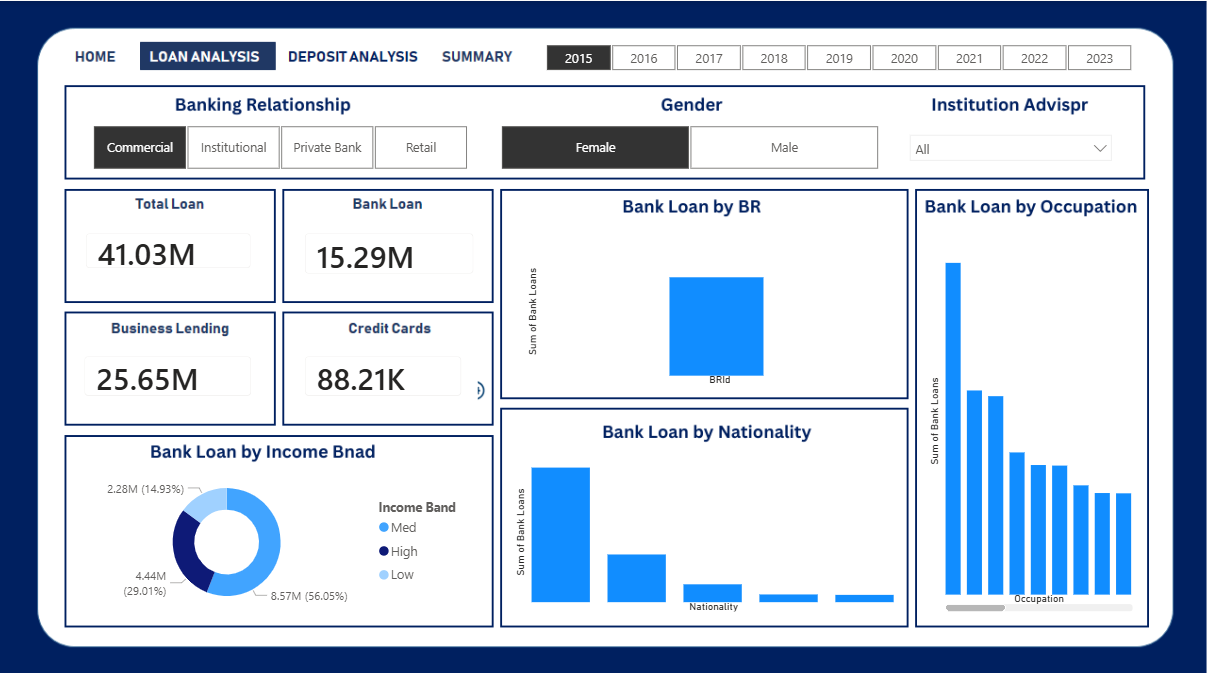

The page's visual inventory and layout, read from the dashboard file:
{"tool":"powerbi","page":{"name":"Loan Analysis","canvas":[1280,720],"ordinal":1},"visuals":[{"type":"cardVisual","fields":{"Data":["Sum(Banking (1).Bank Loans)"]},"box":[307,229,213.1,77.9],"z":0},{"type":"cardVisual","fields":{"Data":["Banking (1).Total Loan"]},"box":[74.8,229,210,71.6],"z":1000},{"type":"cardVisual","fields":{"Data":["Sum(Banking (1).Credit Card Balance)"]},"box":[307,359.5,200.4,76.3],"z":2000},{"type":"cardVisual","fields":{"Data":["Sum(Banking (1).Business Lending)"]},"box":[73.2,359.5,211.6,76.3],"z":3000},{"type":"actionButton","box":[60.4,39.8,89.1,36.6],"z":4000},{"type":"actionButton","box":[295.9,39.8,162.2,36.6],"z":5000},{"type":"actionButton","box":[458.1,38.2,97,38.2],"z":6000},{"type":"slicer","fields":{"Values":["Banking (1).Joined Bank.Variation.Date Hierarchy.Year"]},"box":[555.1,39.8,669.6,36.6],"z":7000},{"type":"donutChart","fields":{"Category":["Banking (1).Income Band"],"Y":["Sum(Banking (1).Bank Loans)"]},"box":[74.8,494.7,432.6,157.5],"z":8000},{"type":"clusteredColumnChart","fields":{"Category":["Banking (1).BRId"],"Y":["Sum(Banking (1).Bank Loans)"]},"box":[555.1,246.5,400.8,165.4],"z":9000},{"type":"clusteredColumnChart","fields":{"Category":["Banking (1).Nationality"],"Y":["Sum(Banking (1).Bank Loans)"]},"box":[542.4,474,413.6,178.1],"z":10000},{"type":"clusteredColumnChart","fields":{"Category":["Banking (1).Occupation"],"Y":["Sum(Banking (1).Bank Loans)"]},"box":[981.4,246.5,225.9,405.6],"z":11000},{"type":"slicer","title":"Banking Realationship","fields":{"Values":["Banking (1).BRId"]},"box":[74.8,125.7,445.4,58.9],"z":12000},{"type":"slicer","fields":{"Values":["Banking (1).GenderId"]},"box":[507.4,125.7,448.6,58.9],"z":13000},{"type":"slicer","fields":{"Values":["Banking (1).IAId"]},"box":[956,132,233.8,47.7],"z":14000}]}

Visuals, with their boxes in screenshot pixels (x1, y1, x2, y2), scaled from the page's 1280x720 canvas onto the 1207x673 screenshot:
cardVisual - Sum(Banking (1).Bank Loans): <bbox>289, 214, 490, 287</bbox>
cardVisual - Banking (1).Total Loan: <bbox>71, 214, 269, 281</bbox>
cardVisual - Sum(Banking (1).Credit Card Balance): <bbox>289, 336, 478, 407</bbox>
cardVisual - Sum(Banking (1).Business Lending): <bbox>69, 336, 269, 407</bbox>
actionButton: <bbox>57, 37, 141, 71</bbox>
actionButton: <bbox>279, 37, 432, 71</bbox>
actionButton: <bbox>432, 36, 523, 71</bbox>
slicer - Banking (1).Joined Bank.Variation.Date Hierarchy.Year: <bbox>523, 37, 1155, 71</bbox>
donutChart - Banking (1).Income Band x Sum(Banking (1).Bank Loans): <bbox>71, 462, 478, 610</bbox>
clusteredColumnChart - Banking (1).BRId x Sum(Banking (1).Bank Loans): <bbox>523, 230, 901, 385</bbox>
clusteredColumnChart - Banking (1).Nationality x Sum(Banking (1).Bank Loans): <bbox>511, 443, 901, 610</bbox>
clusteredColumnChart - Banking (1).Occupation x Sum(Banking (1).Bank Loans): <bbox>925, 230, 1138, 610</bbox>
"Banking Realationship" slicer: <bbox>71, 117, 491, 173</bbox>
slicer - Banking (1).GenderId: <bbox>478, 117, 901, 173</bbox>
slicer - Banking (1).IAId: <bbox>901, 123, 1122, 168</bbox>
